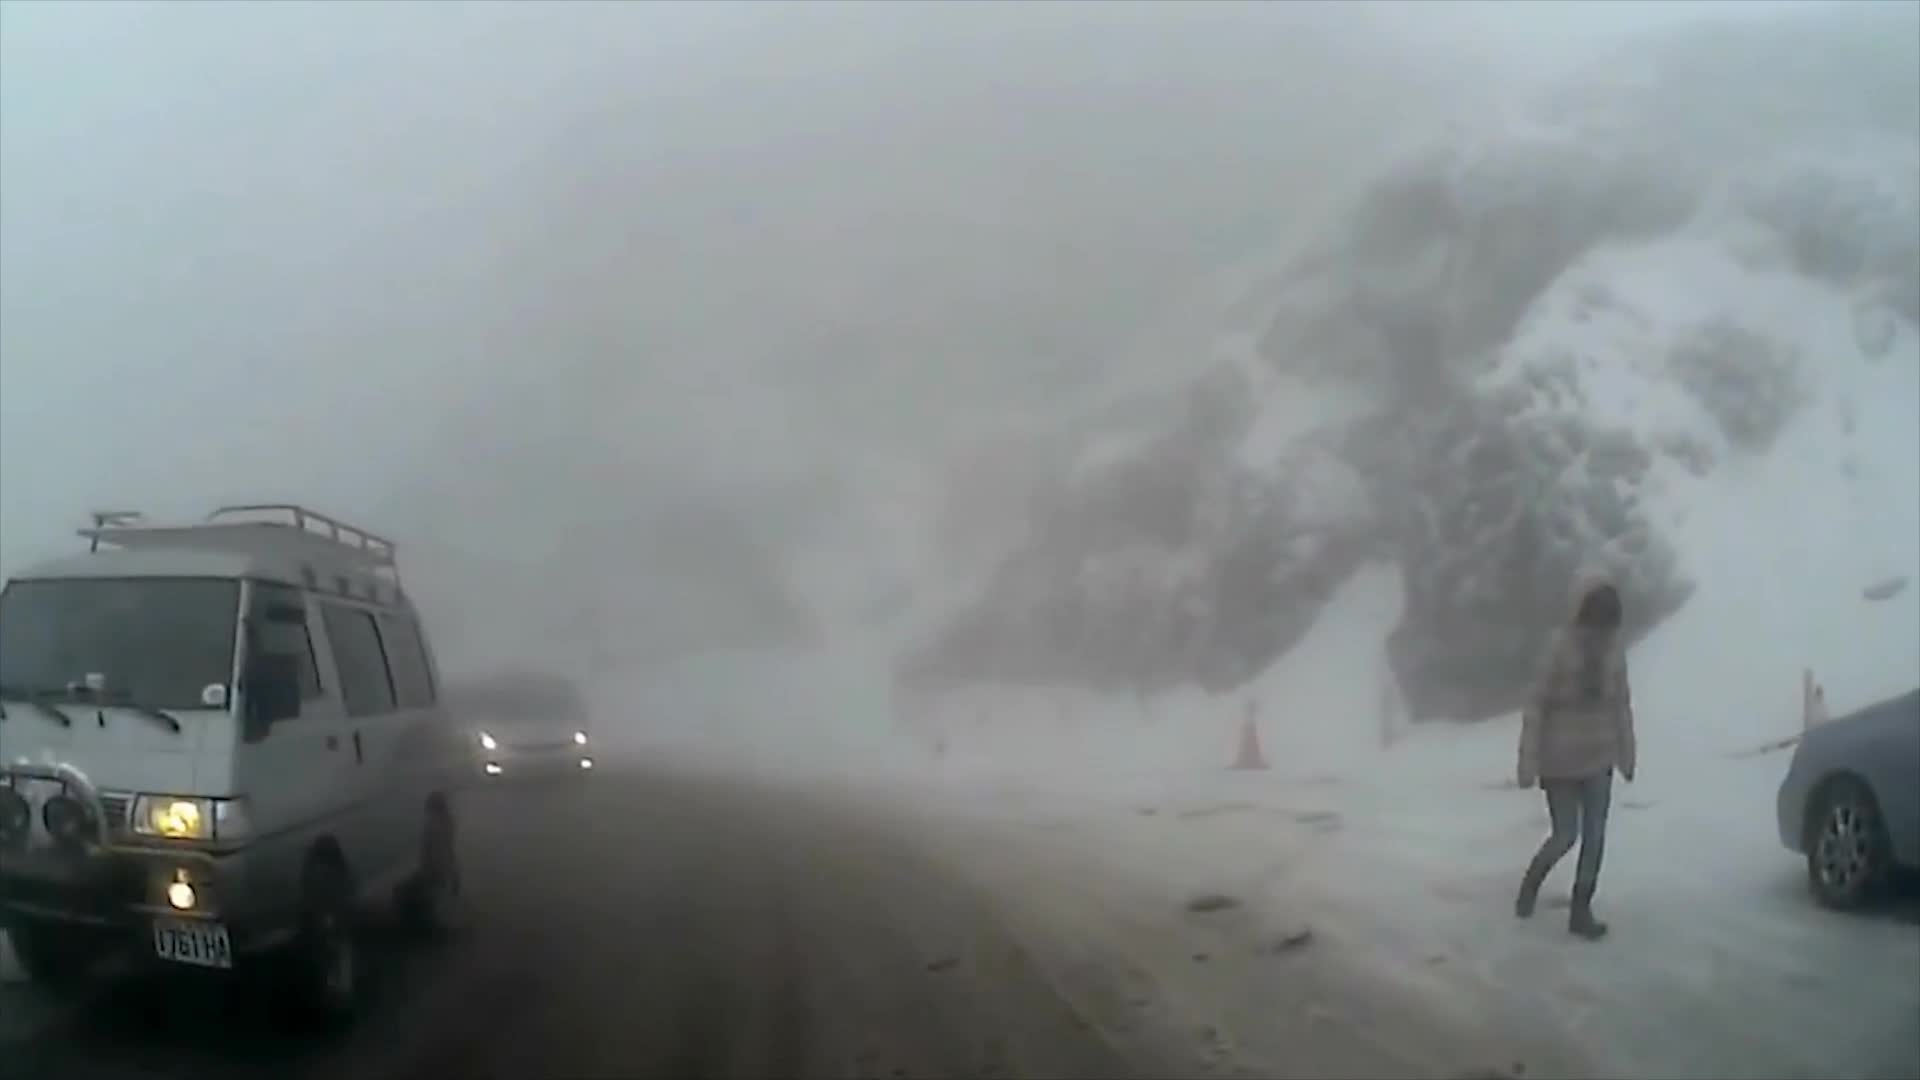pedestrian: (1516, 557, 1637, 937)
vehicle: (0, 501, 469, 1029), (1772, 687, 1920, 915), (434, 670, 598, 791)
